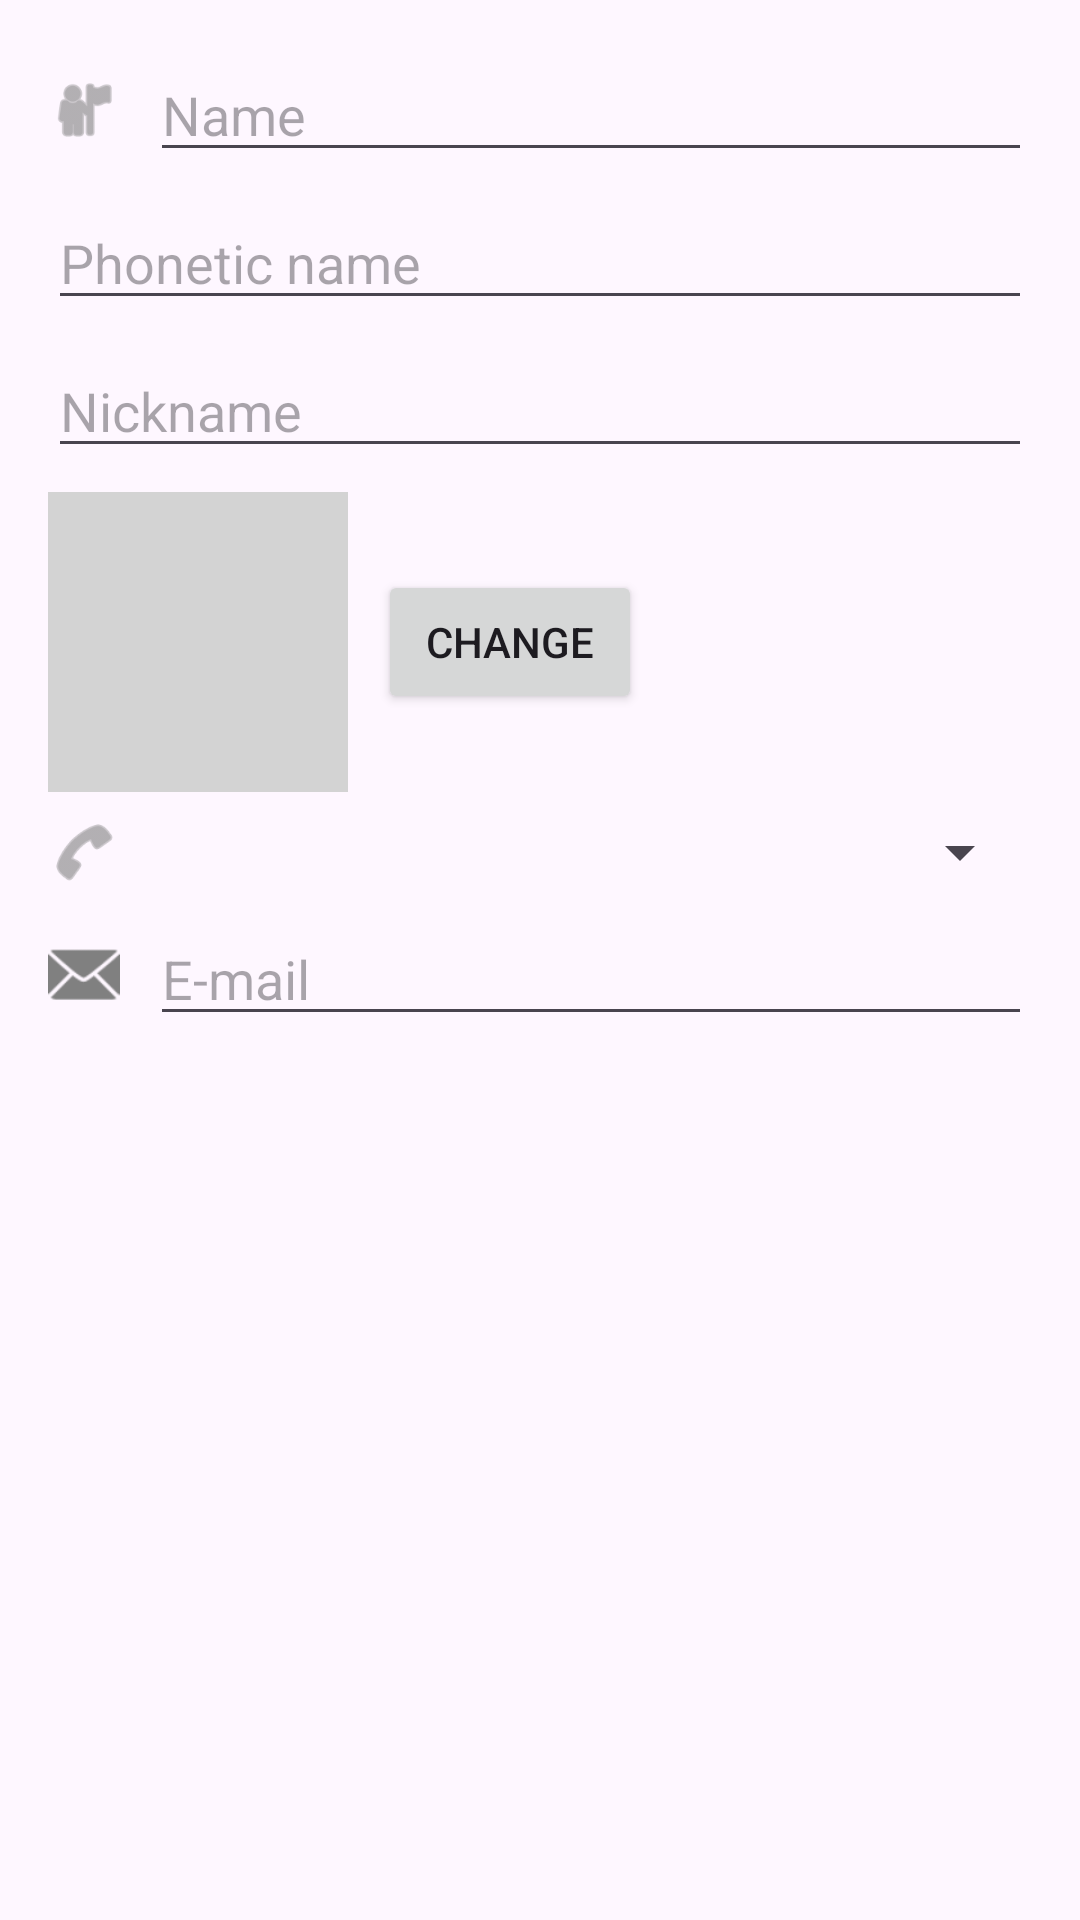

Where to tap for icons on this 1080px×1920px app screen, as [x,y]:
call: [84,852]
myplaces: [85,110]
